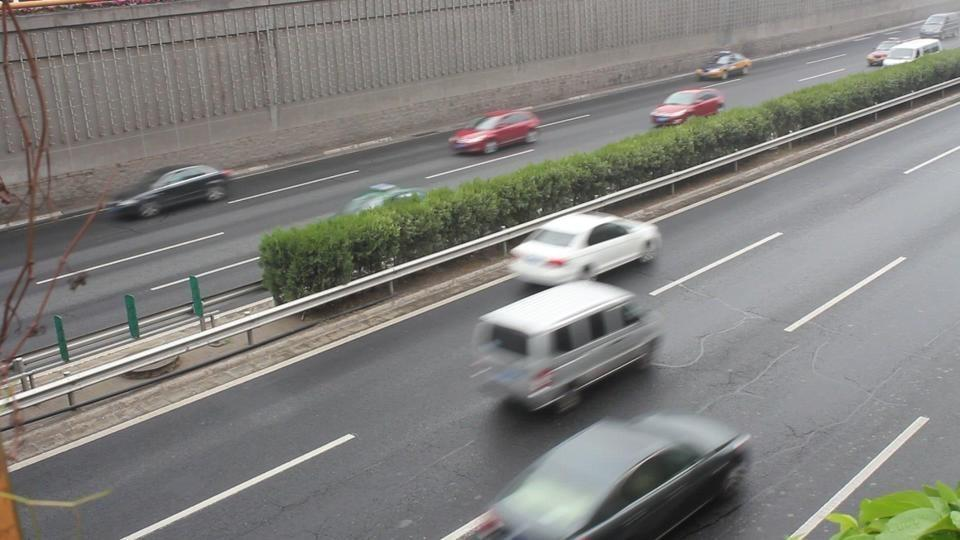car: (443, 409, 752, 539), (470, 279, 664, 415), (507, 210, 662, 286), (105, 164, 230, 221), (448, 109, 541, 155), (649, 88, 726, 127), (341, 182, 429, 215), (867, 38, 941, 68), (697, 50, 752, 81), (919, 12, 960, 41)
